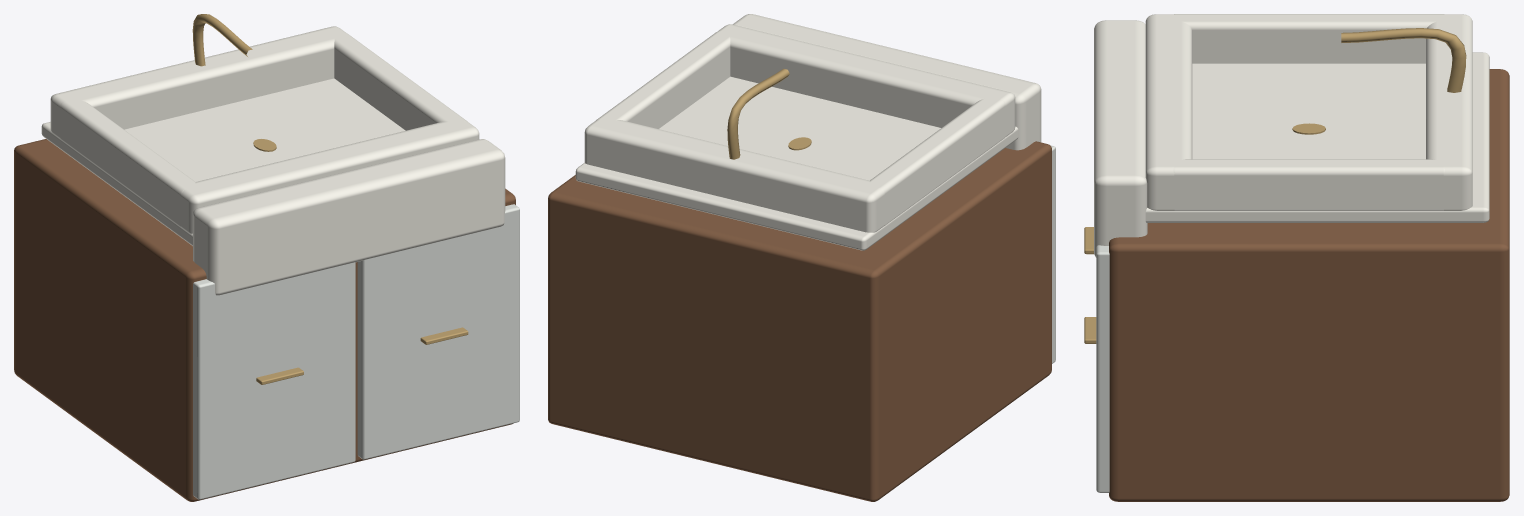
Rendered from sink-7-2.glb.
The picture shows the model from 3 angles, left to right: view 1: azimuth 30°, elevation 25°; view 2: azimuth 150°, elevation 25°; view 3: azimuth 270°, elevation 25°; orthographic projection. The views are drawn at different scales.
Parts seen in each view (by area): view 1: upholstery (×4); view 2: upholstery (×4); view 3: upholstery (×4).
Part boxes in pixels (x1,y1,x2,y2): upholstery (×4): (14,14,519,501); upholstery (×4): (548,14,1055,501); upholstery (×4): (1084,14,1509,501).
Bounding box in the file's own units: 1 × 1 × 1.
